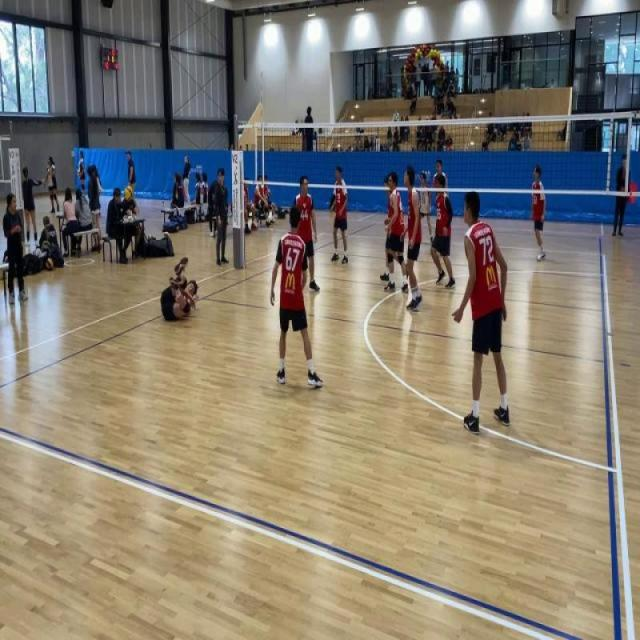volleyball: (123, 185, 134, 202), (46, 257, 54, 271), (162, 230, 170, 238), (76, 170, 80, 178), (148, 234, 152, 240)
